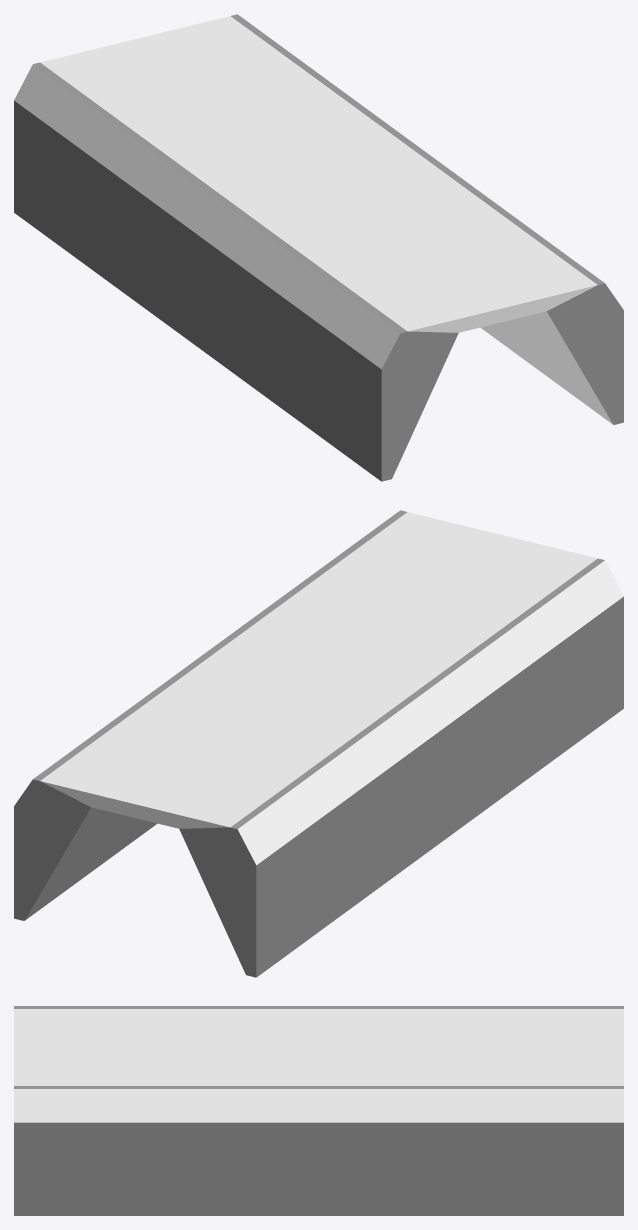
Rendered from TankAPlatform.fbx.
3 views of the same model, one above another, from view 1: azimuth 30°, elevation 25°; view 2: azimuth 150°, elevation 25°; view 3: azimuth 270°, elevation 25° (orthographic). The views are drawn at different scales.
Parts seen in each view (by area): view 1: TankAPlatform; view 2: TankAPlatform; view 3: TankAPlatform.
Part boxes in pixels (x1,y1,x2,y2): TankAPlatform: [14, 14, 623, 481]; TankAPlatform: [14, 510, 623, 977]; TankAPlatform: [14, 1006, 623, 1215].
Bounding box in the file's own units: 65.53 × 37.16 × 172.
1 material, 1 textured.
